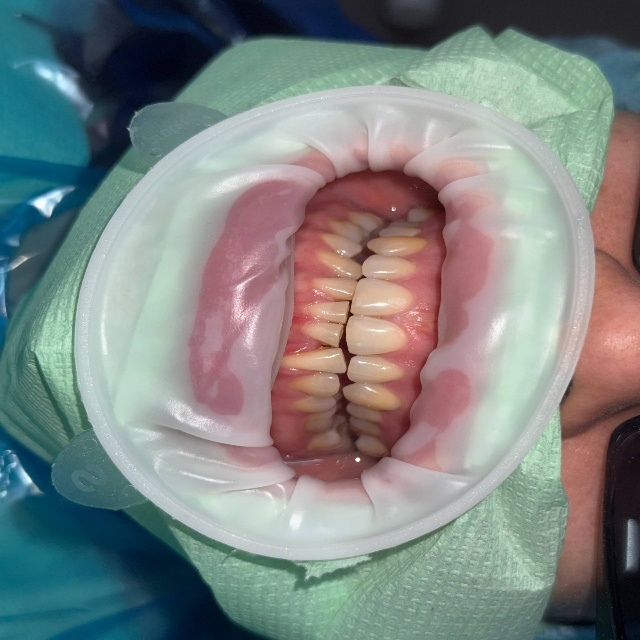clean_tooth: (231, 284, 293, 352), (192, 104, 234, 131), (252, 356, 291, 382), (296, 349, 338, 372)
plaque: (438, 0, 591, 118), (470, 508, 576, 585), (262, 0, 372, 41), (0, 33, 88, 79), (459, 588, 511, 639), (393, 0, 444, 43), (589, 449, 628, 490), (523, 104, 552, 154)
